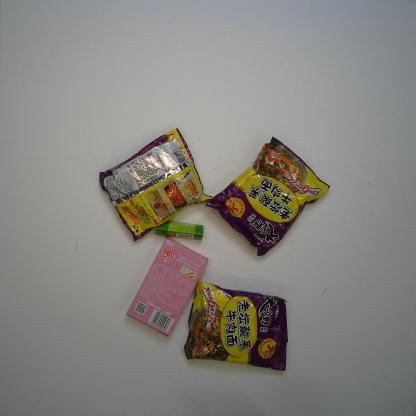Dessert: (125, 236, 209, 338)
Instant Noodles: (204, 135, 332, 257), (98, 128, 213, 243), (182, 278, 290, 372)
Stationery: (155, 220, 204, 241)
